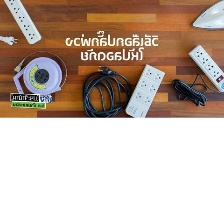three_eye_plug: (12, 53, 66, 104), (122, 61, 168, 118), (185, 43, 224, 94), (0, 0, 43, 45)
